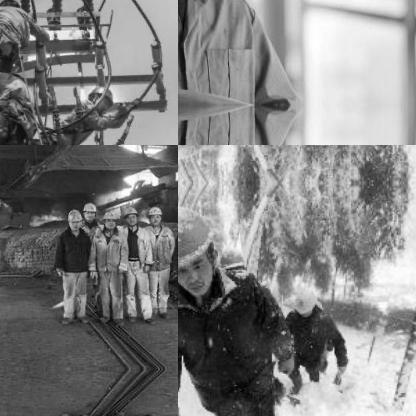Helmet: (178, 197, 215, 299), (219, 244, 247, 282), (293, 282, 319, 314), (178, 145, 217, 166), (88, 82, 112, 106), (121, 204, 139, 226), (99, 209, 118, 229), (66, 207, 82, 229), (146, 203, 162, 224), (81, 200, 95, 220), (0, 0, 19, 14)
